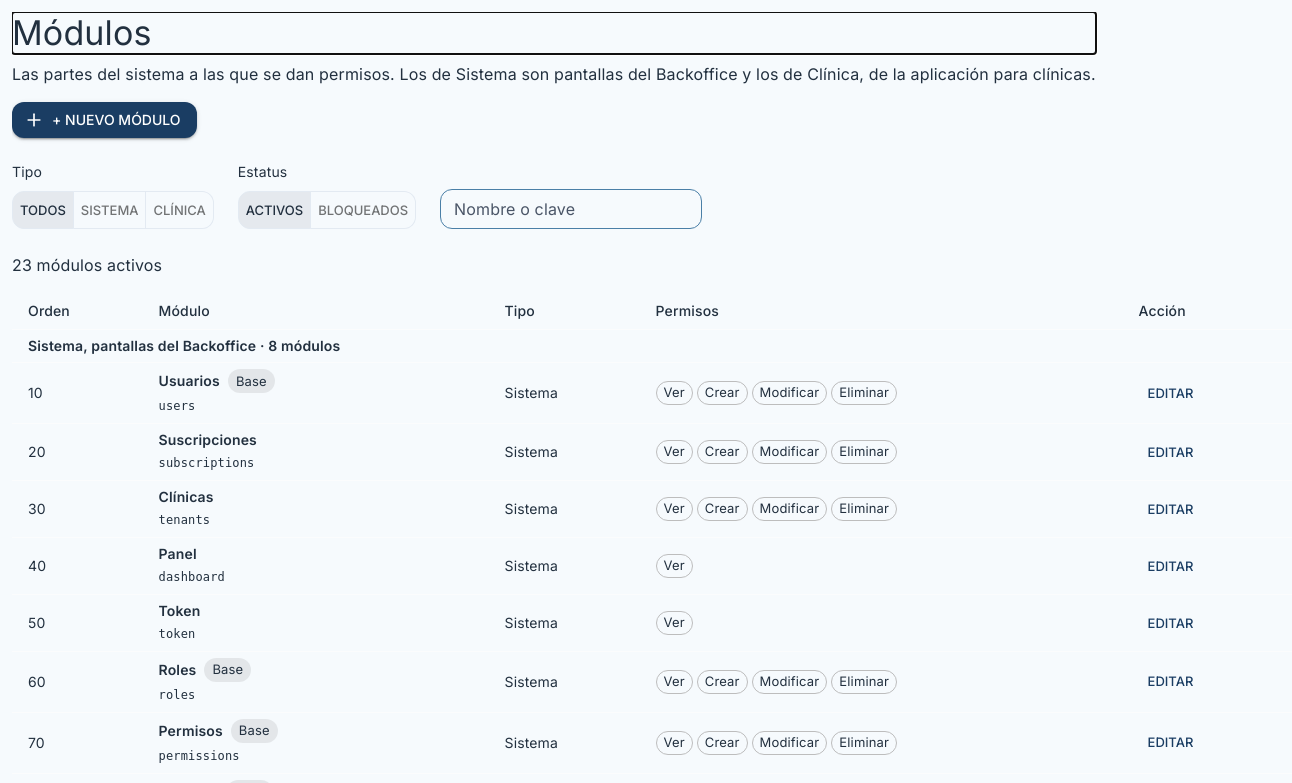
ModulesPage › filtering by Estatus = Bloqueados makes a new request with status_id=2
Expected: the text "23 módulos activos" is shown, [12,255,162,275]
What coordinates should you click on to do the following:
click the button "Bloqueados"
I would click on:
 (363, 210)
Its box is [310,190,416,229].
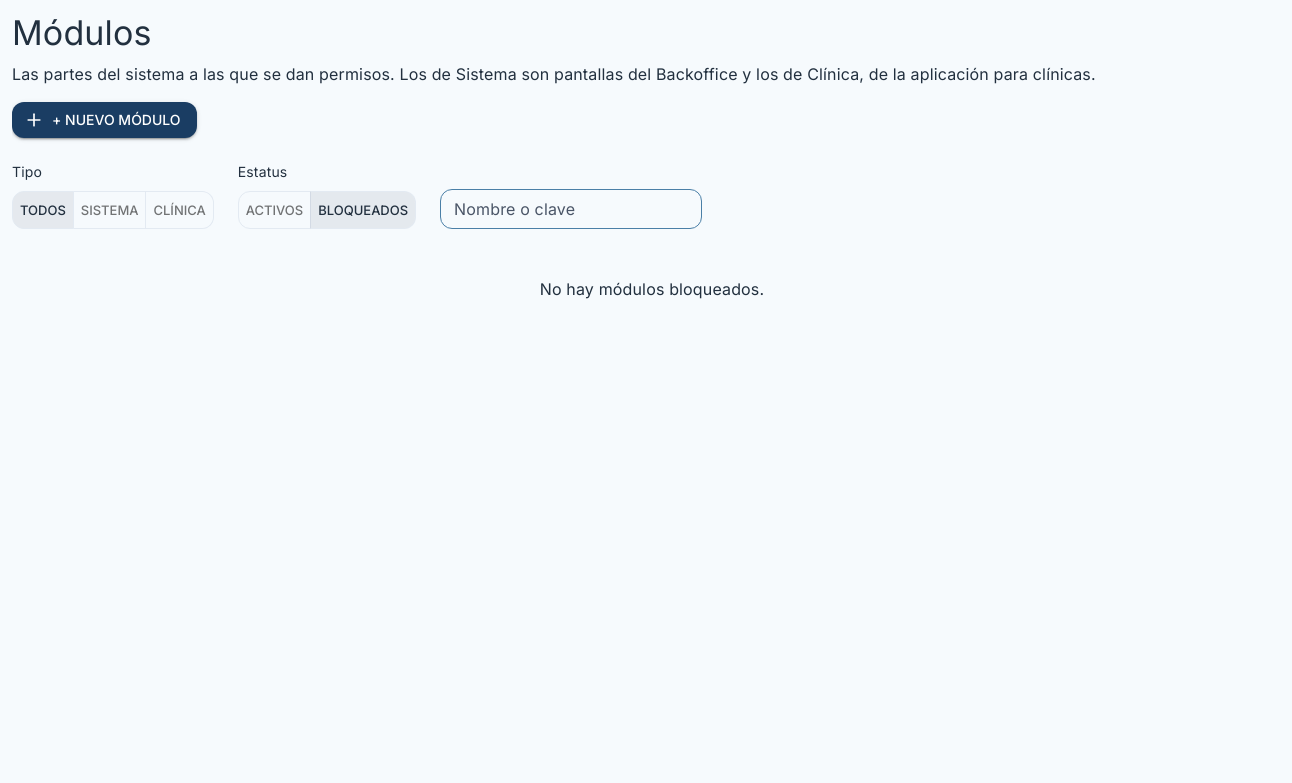
Now the text "No hay módulos bloqueados." is shown, box [540,277,764,301]
